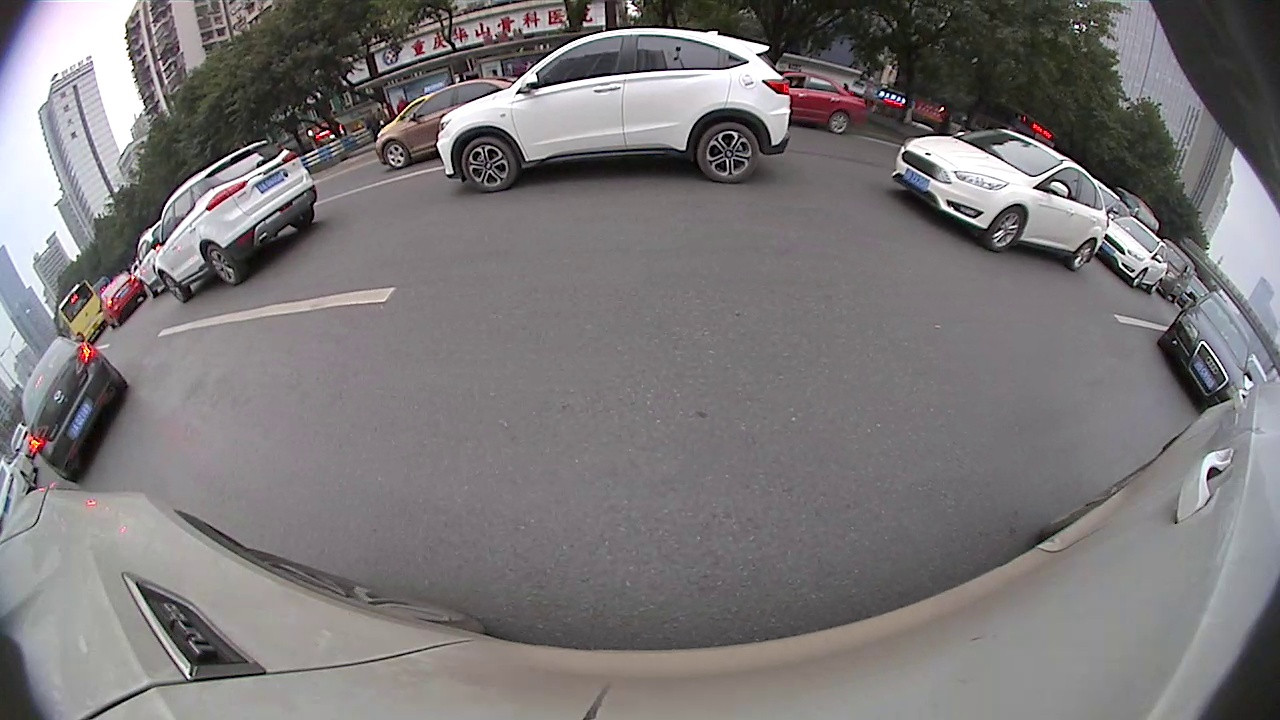bus: (57, 279, 110, 343)
car: (434, 26, 793, 196), (893, 127, 1111, 271), (153, 136, 320, 305), (21, 335, 129, 483), (374, 78, 518, 170), (1154, 292, 1253, 406), (783, 69, 875, 133), (1100, 214, 1170, 296), (99, 269, 149, 330)
front: (461, 136, 516, 192), (986, 203, 1029, 253), (159, 272, 191, 305), (384, 140, 411, 170), (1130, 267, 1150, 291)
rear: (696, 120, 761, 184), (205, 243, 243, 287), (1067, 236, 1098, 270), (827, 109, 851, 135)
